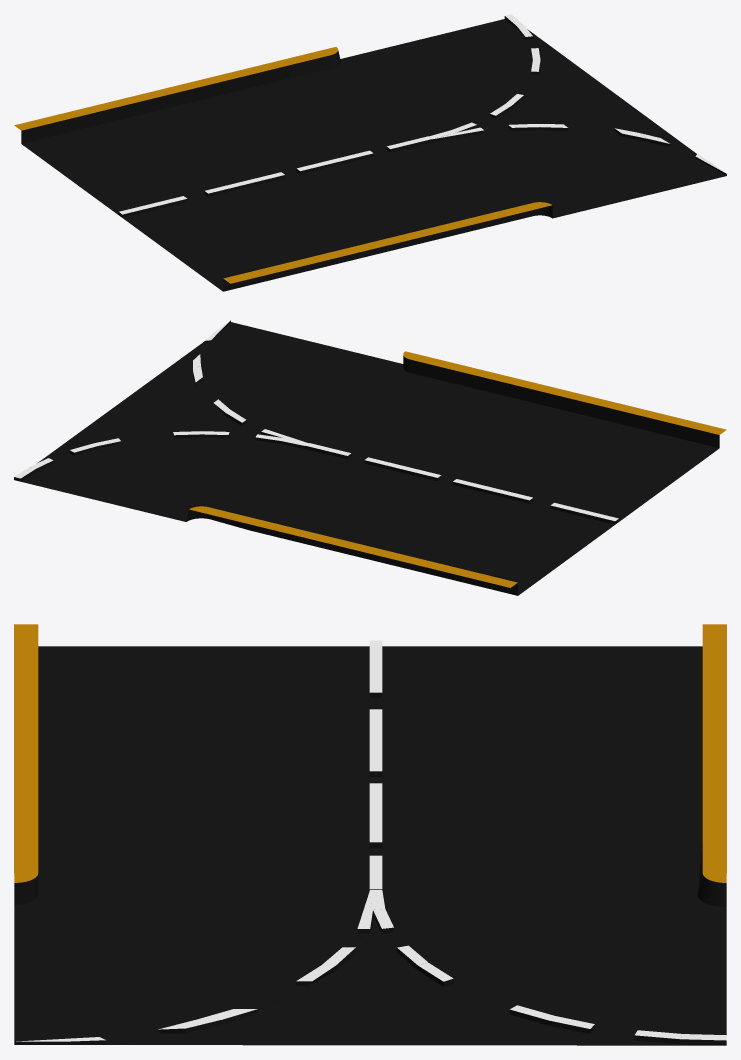
Rendered from road2_reto.obj.
3 renders of one model, top to bottom at view 1: azimuth 30°, elevation 25°; view 2: azimuth 150°, elevation 25°; view 3: azimuth 270°, elevation 25°, orthographic. The views are drawn at different scales.
Parts seen in each view (by area): view 1: Plane; view 2: Plane; view 3: Plane.
Part boxes in pixels (box(x1,y1,x2,y2)): Plane: box(14, 14, 726, 291); Plane: box(14, 320, 726, 595); Plane: box(14, 624, 726, 1045).
Size of the model in its own units: 7.82 by 0.2015 by 5.9.
